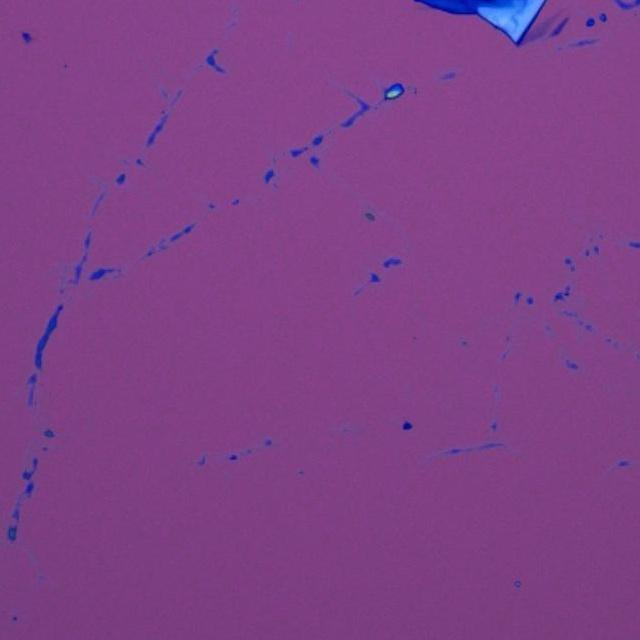monolayer-eWW4: (519, 6, 565, 46)
